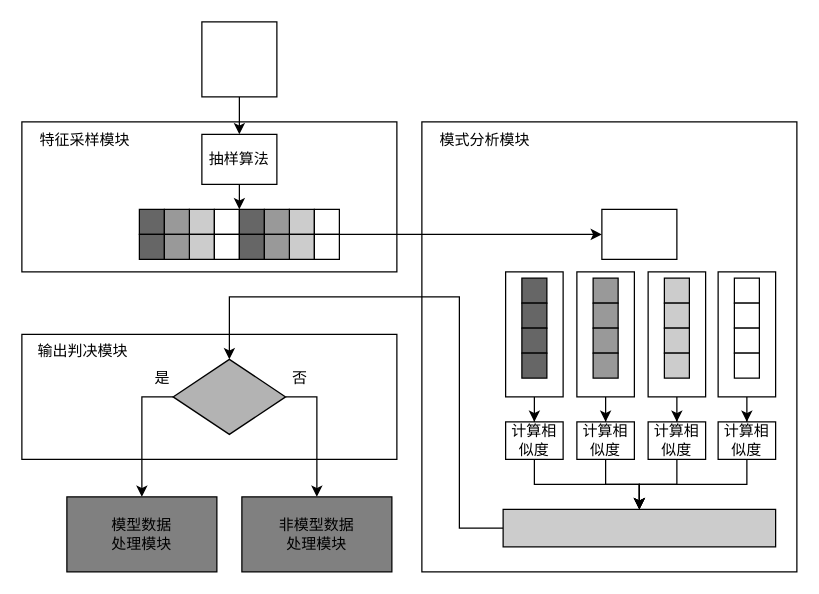
The diagram is 819 pixels wide and 594 high, and some of its shapes have lost their labels. Each missing label, with the box of its shape:
待存储 数据块: (201, 21, 277, 97)
循环分组: (601, 208, 677, 259)
循环相似特征: (502, 508, 776, 547)
是否符合 模型数据特征: (172, 358, 286, 434)
